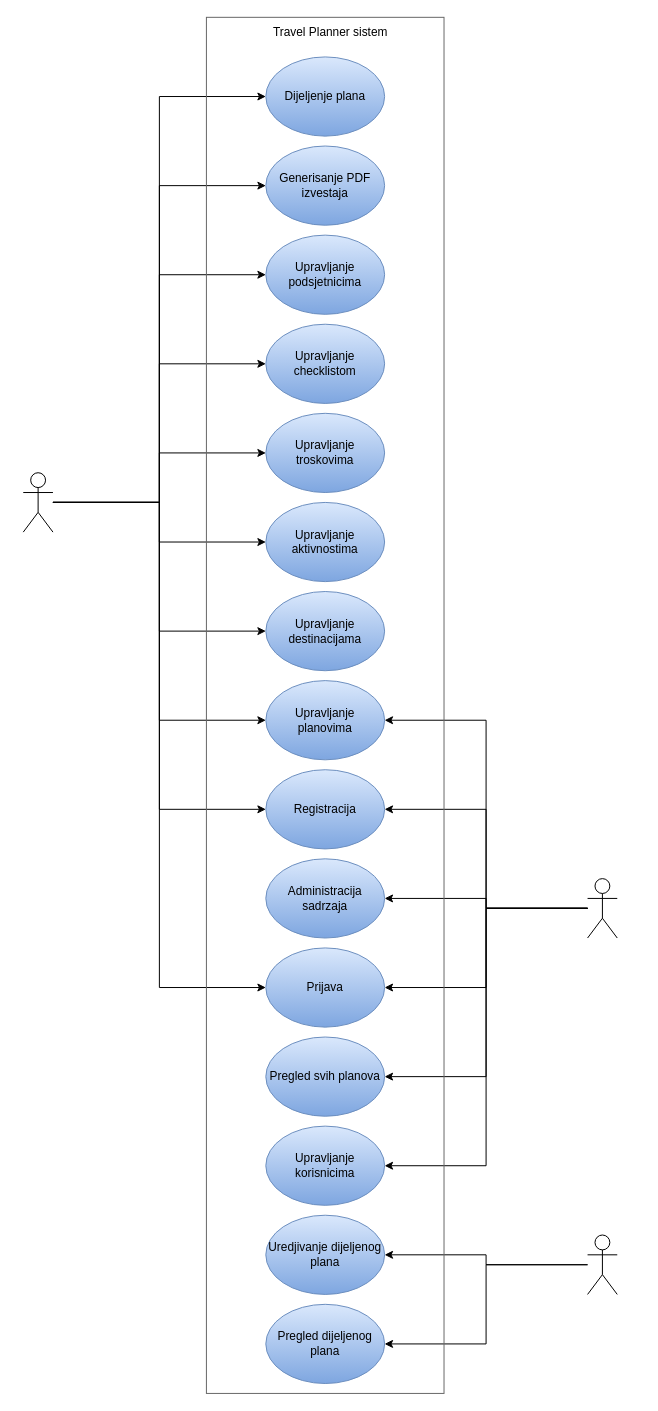
The diagram is 658 pixels wide and 1411 high, and some of its shapes have lost their labels. Each missing label, with the box of its shape:
Admin: (587, 878, 617, 938)
Gost sa linkom: (587, 1234, 617, 1294)
Korisnik: (22, 472, 53, 532)
